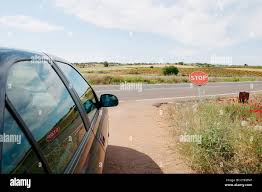stop sign: (188, 71, 209, 87)
